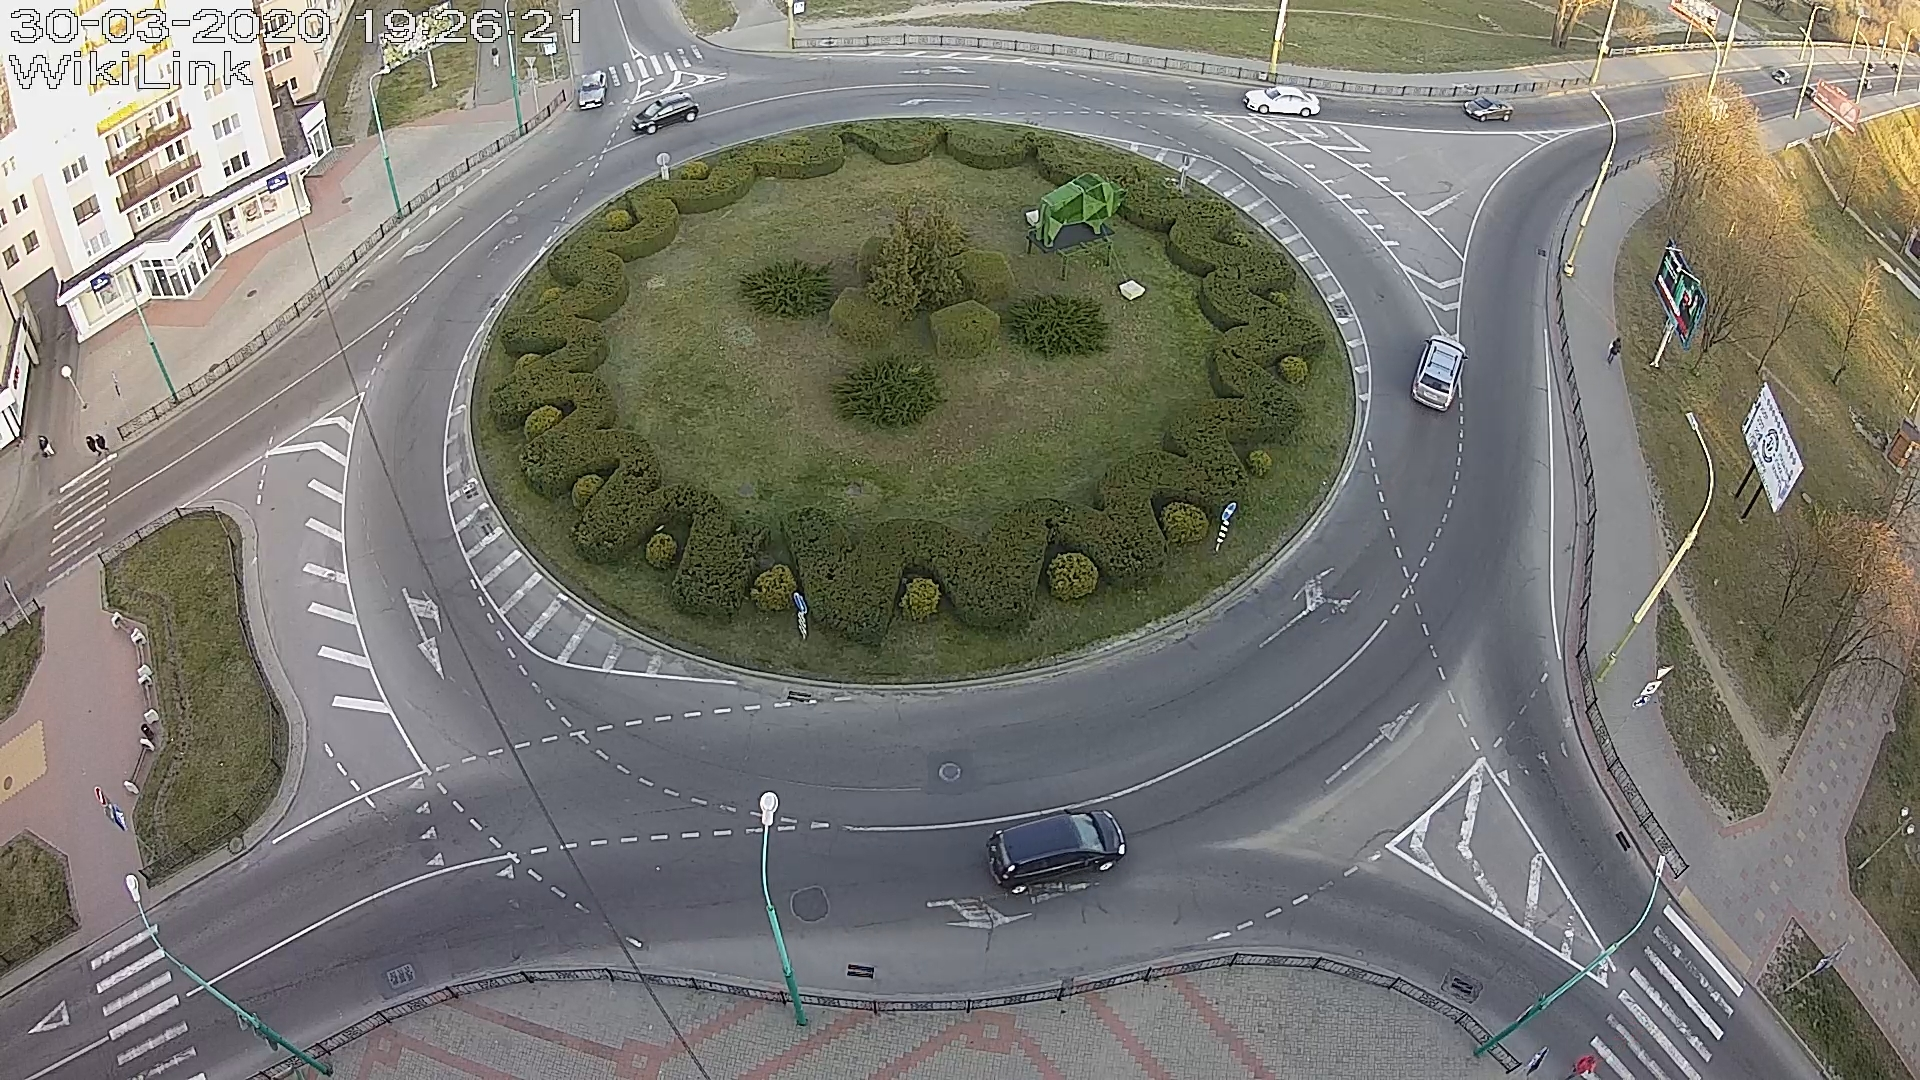car: (984, 810, 1127, 895), (1411, 334, 1469, 411), (632, 91, 699, 135), (1242, 87, 1320, 116), (1464, 96, 1514, 123), (578, 71, 608, 111)
